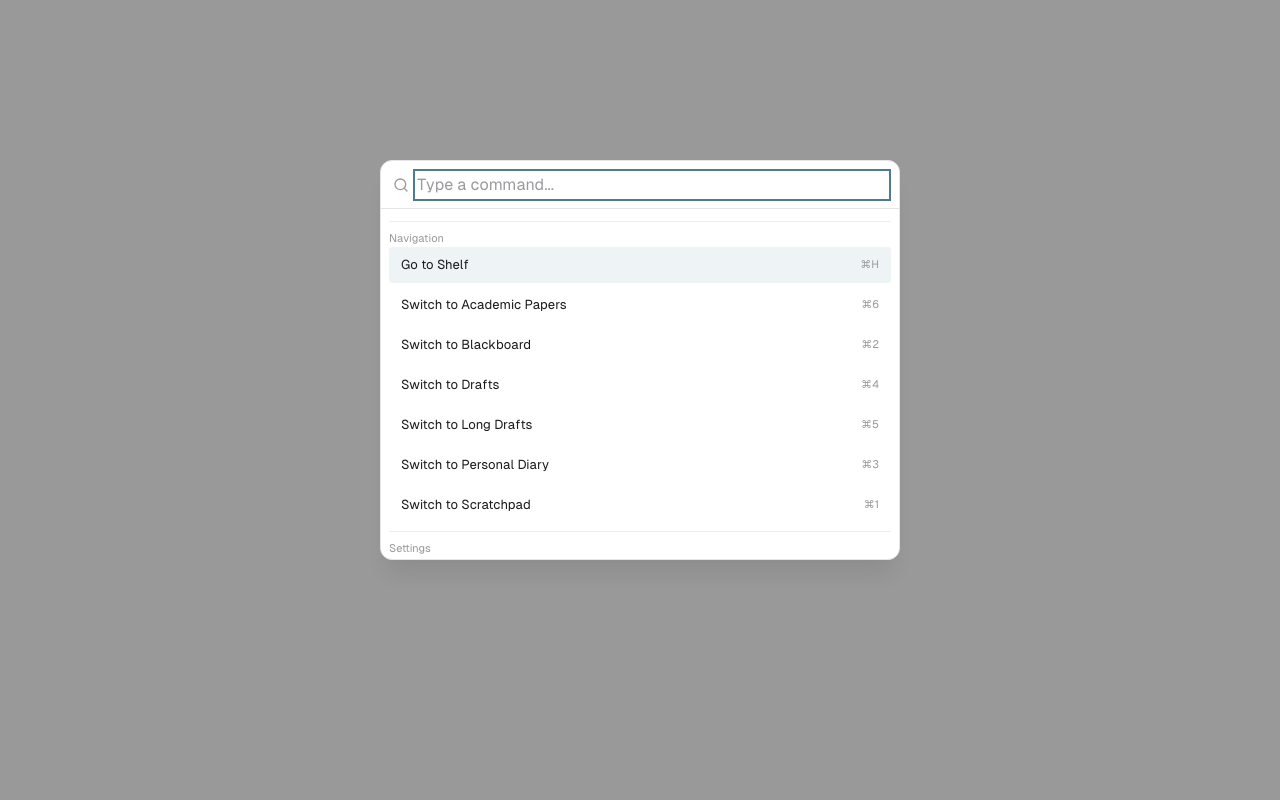
CommandPalette › filters commands with fuzzy search
Type "sett" into the dropdown named "Command search" at (652, 184), box [417,172,887,196]
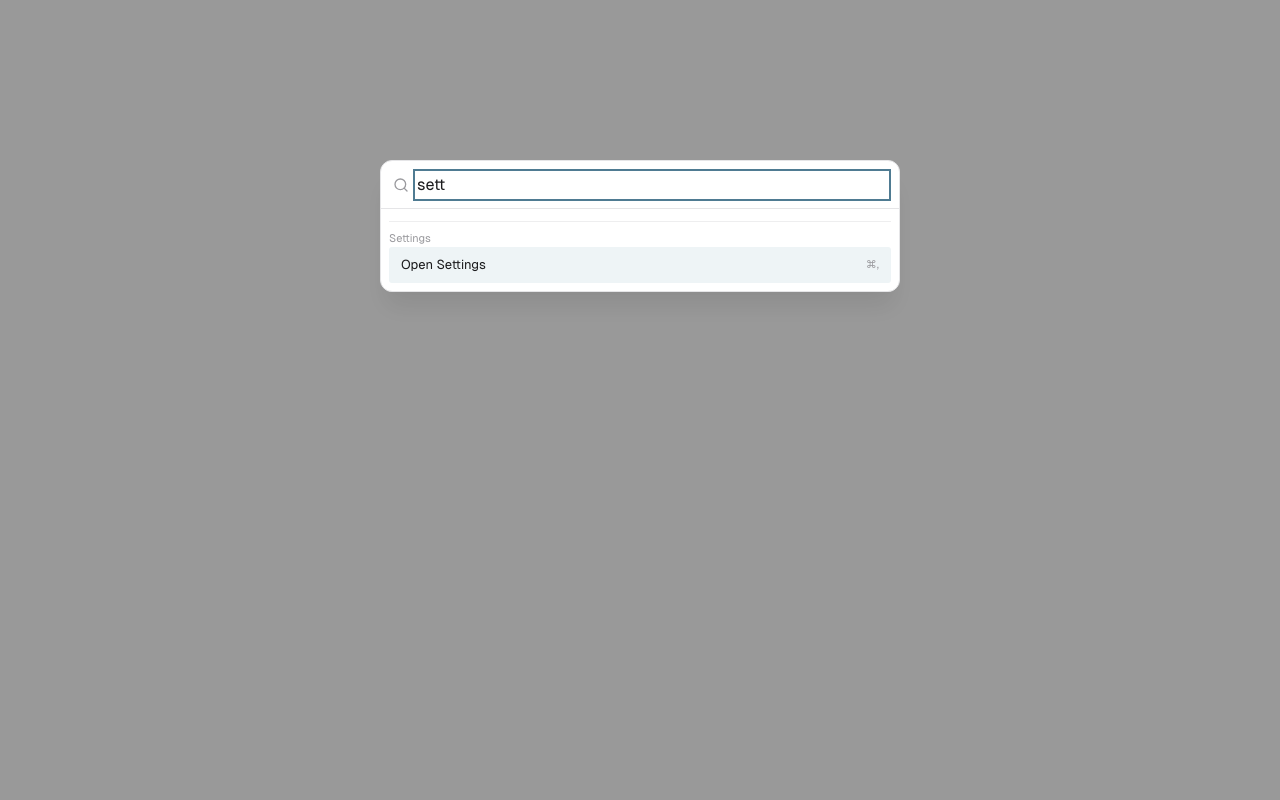
Expected: the option "Open Settings ⌘," is shown, [389,246,891,282]
